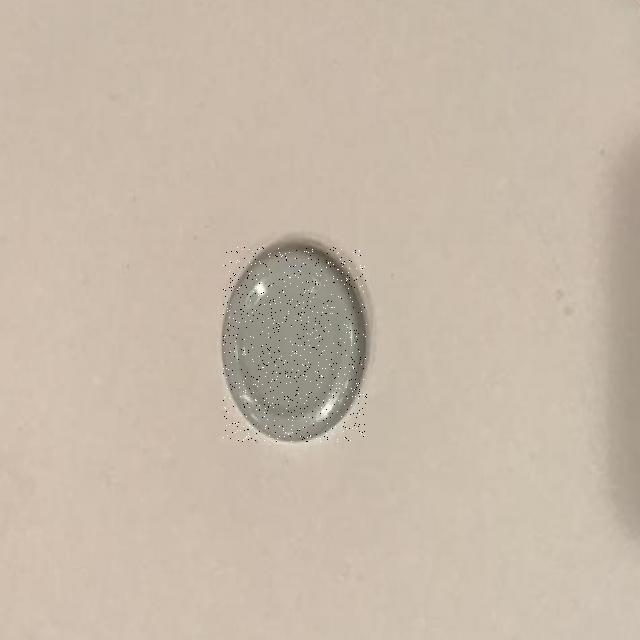metal: (223, 247, 367, 441)
